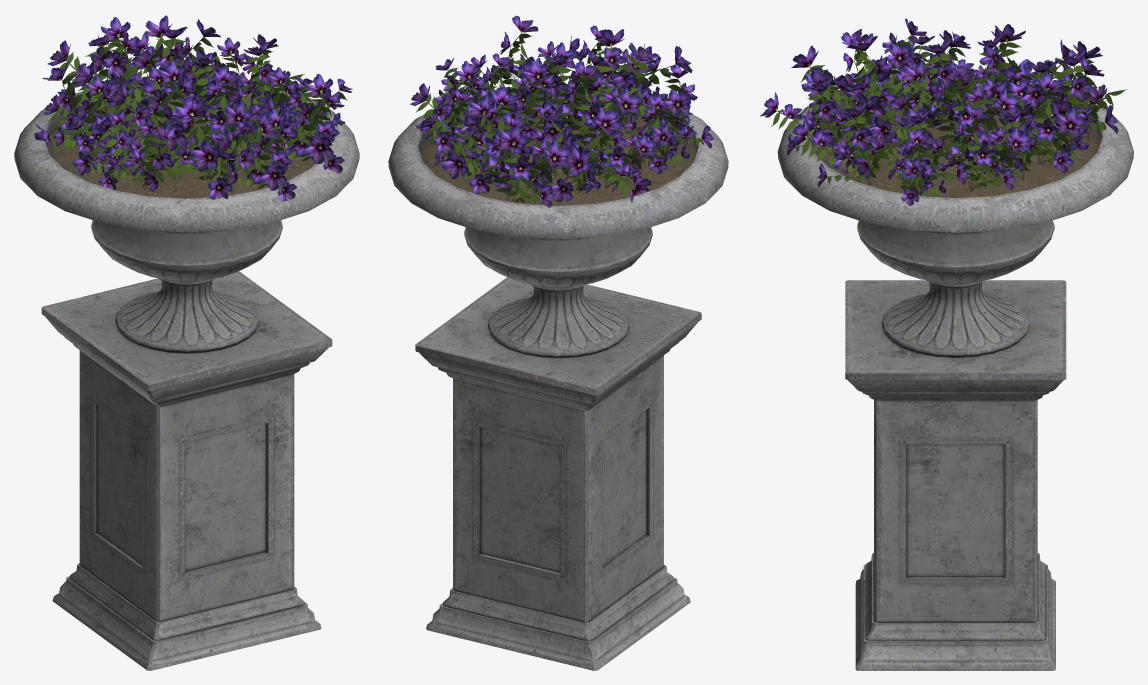
The model's file is garden.glb.
The picture shows the model from 3 angles, left to right: view 1: azimuth 30°, elevation 25°; view 2: azimuth 150°, elevation 25°; view 3: azimuth 270°, elevation 25°; orthographic projection. The views are drawn at different scales.
Parts seen in each view (by area): view 1: GardenUrn, Frowers, GardenUrn_GardenUrn_0.001, Frowers_Flowers_0.001; view 2: GardenUrn, Frowers, GardenUrn_GardenUrn_0.001, Frowers_Flowers_0.001; view 3: GardenUrn, Frowers, GardenUrn_GardenUrn_0.001, Frowers_Flowers_0.001.
Part boxes in pixels (bbox=[...]): GardenUrn: bbox=[14, 76, 359, 660]; Frowers: bbox=[34, 15, 352, 201]; GardenUrn_GardenUrn_0.001: bbox=[42, 226, 332, 670]; Frowers_Flowers_0.001: bbox=[42, 37, 344, 189]; GardenUrn: bbox=[388, 84, 728, 660]; Frowers: bbox=[410, 16, 714, 207]; GardenUrn_GardenUrn_0.001: bbox=[415, 233, 701, 670]; Frowers_Flowers_0.001: bbox=[428, 44, 689, 201]; GardenUrn: bbox=[777, 72, 1133, 660]; Frowers: bbox=[760, 18, 1126, 205]; GardenUrn_GardenUrn_0.001: bbox=[845, 226, 1066, 670]; Frowers_Flowers_0.001: bbox=[778, 19, 1100, 194].
Bounding box in the file's own units: 65.13 × 117 × 68.92.
Materials: 4 (4 with a texture image).
